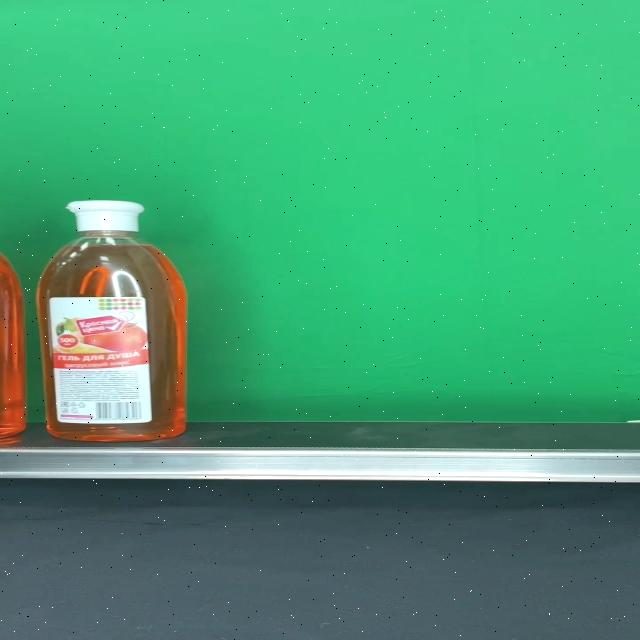Bottle: (36, 200, 189, 442)
Cap: (66, 201, 144, 232)
